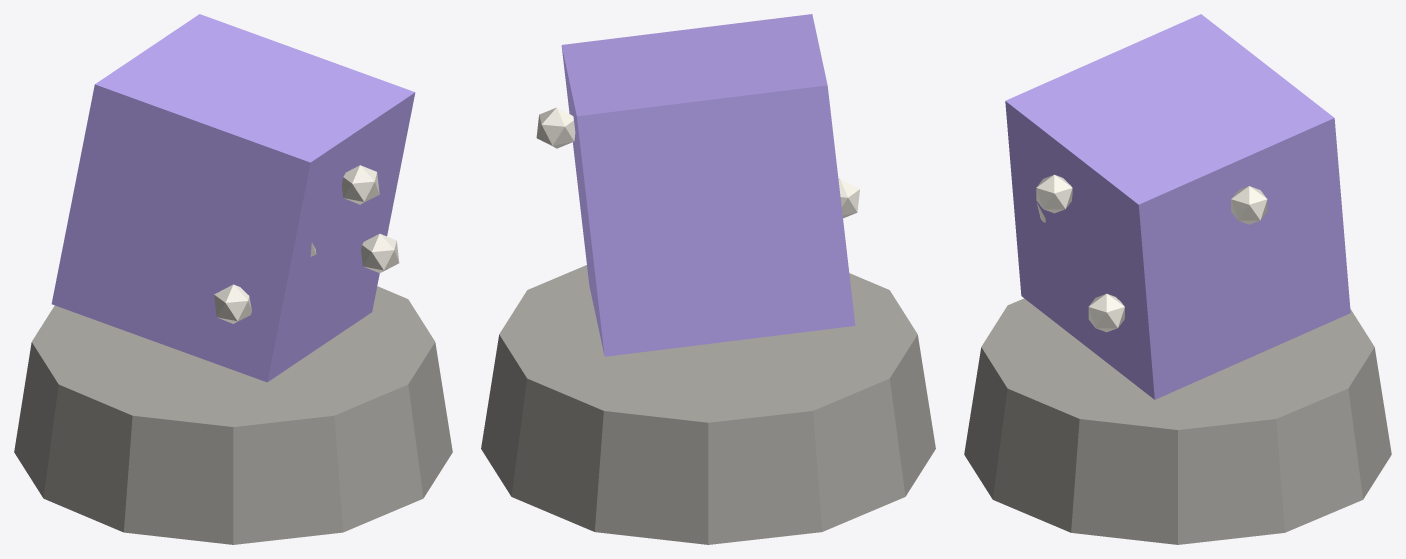
Rendered from dice_shrine.glb.
3 views of the same model, side by side, from view 1: azimuth 30°, elevation 25°; view 2: azimuth 150°, elevation 25°; view 3: azimuth 270°, elevation 25° (orthographic). The views are drawn at different scales.
Visible parts, largest first — view 1: dice_shrine; view 2: dice_shrine; view 3: dice_shrine.
Part boxes in pixels (x1,y1,x2,y2): dice_shrine: [14, 14, 452, 544]; dice_shrine: [481, 14, 935, 544]; dice_shrine: [964, 14, 1391, 544].
Size of the model in its own units: 1.8 by 1.77 by 1.8.
